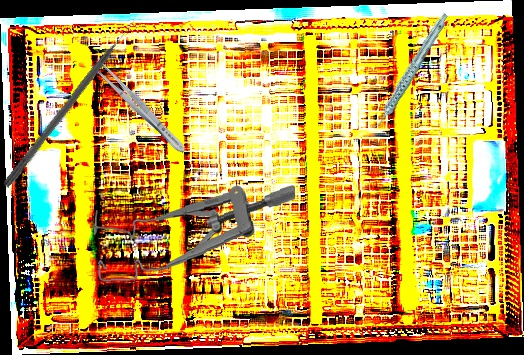Dressing Forceps: (88, 55, 190, 158)
Handpiece: (349, 11, 469, 131)
Pusher: (1, 16, 141, 191)
Speculum: (91, 181, 300, 284)
